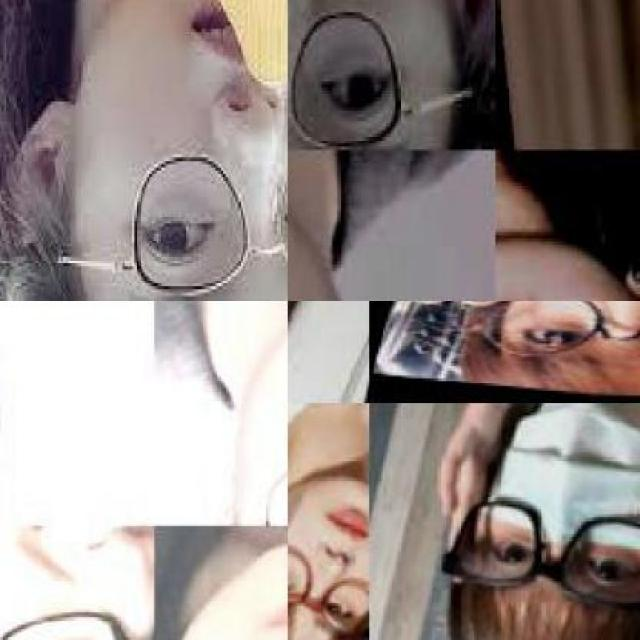glasses: (288, 0, 486, 151), (51, 156, 286, 282), (428, 491, 640, 612), (471, 300, 638, 377), (288, 538, 370, 638)
